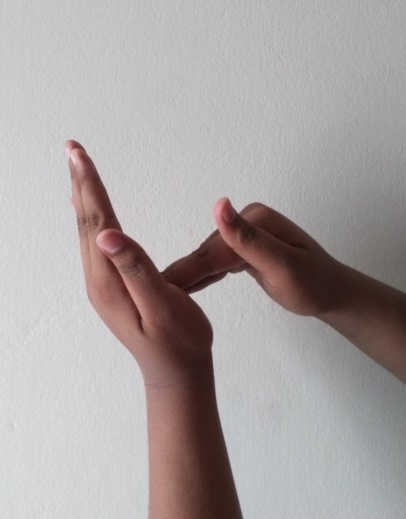ga: (63, 138, 344, 392)
